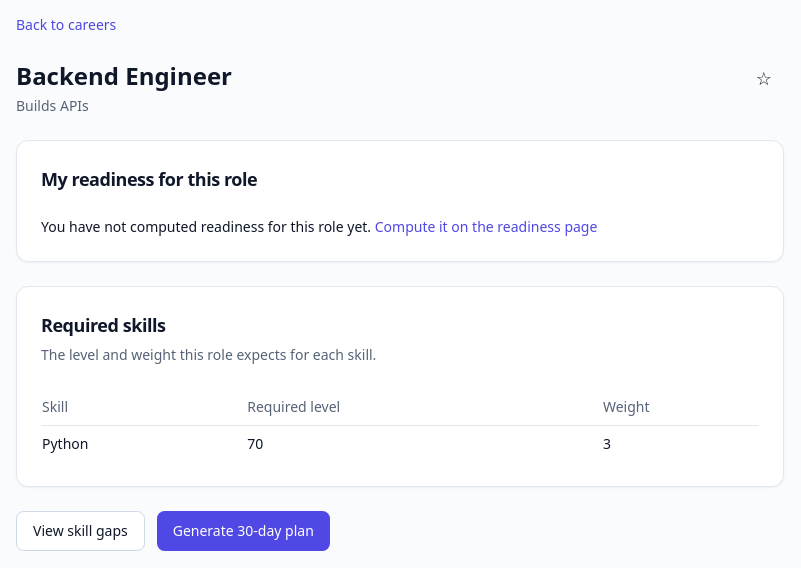
Test: CareerDetailPage › toggles the goal by saving the full goal list
The width and height of the screenshot is (801, 568).
Click the button named "Add Backend Engineer to my goals": (764, 78) left=744, top=60, right=784, bottom=96
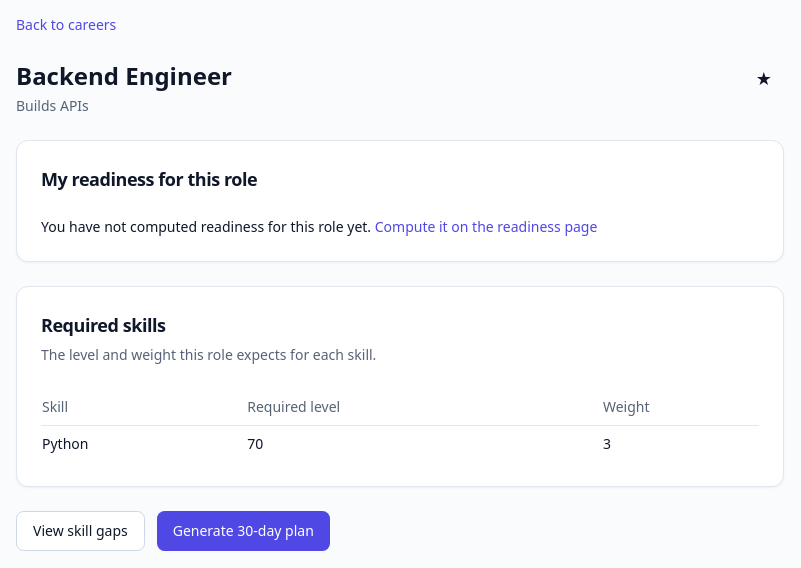
Expected: the button named "Remove Backend Engineer from my goals" is shown, left=744, top=60, right=784, bottom=96
